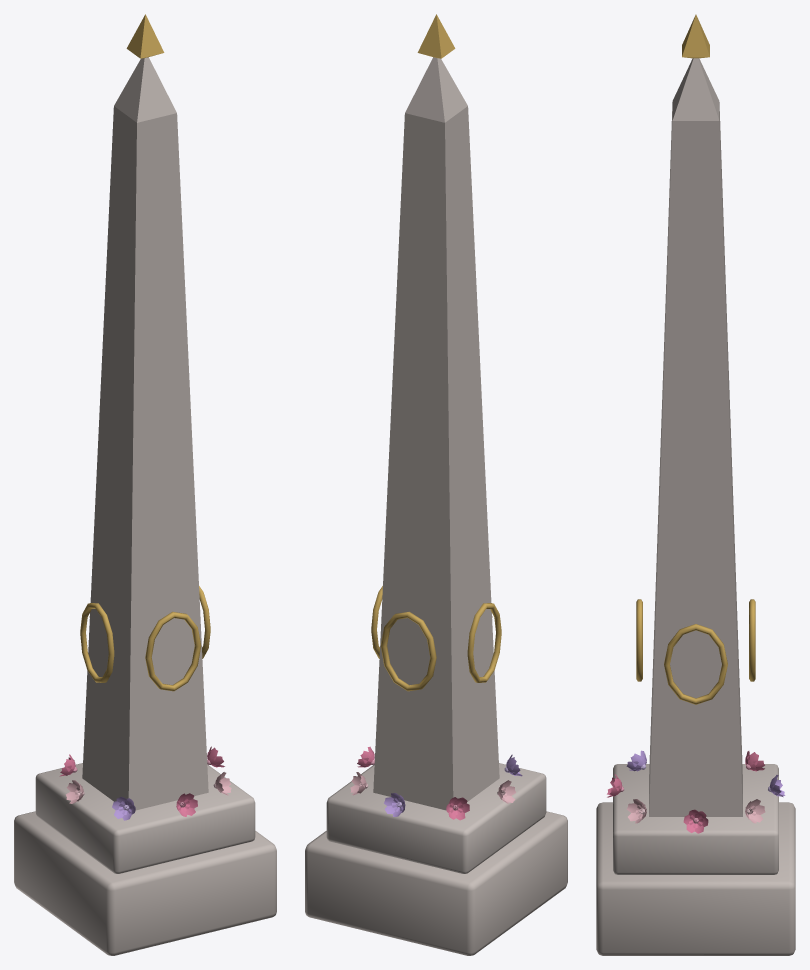
The model's file is obelisk.glb.
3 renders of one model, left to right at view 1: azimuth 30°, elevation 25°; view 2: azimuth 150°, elevation 25°; view 3: azimuth 270°, elevation 25°, orthographic.
Parts seen in each view (by area): view 1: obelisk; view 2: obelisk; view 3: obelisk.
Boxes of the visible parts, bbox=[...] form: obelisk: bbox=[14, 14, 276, 955]; obelisk: bbox=[305, 14, 567, 955]; obelisk: bbox=[596, 14, 795, 955].
Size of what is drawn, in the model's own units: 1.2 by 6 by 1.2.
